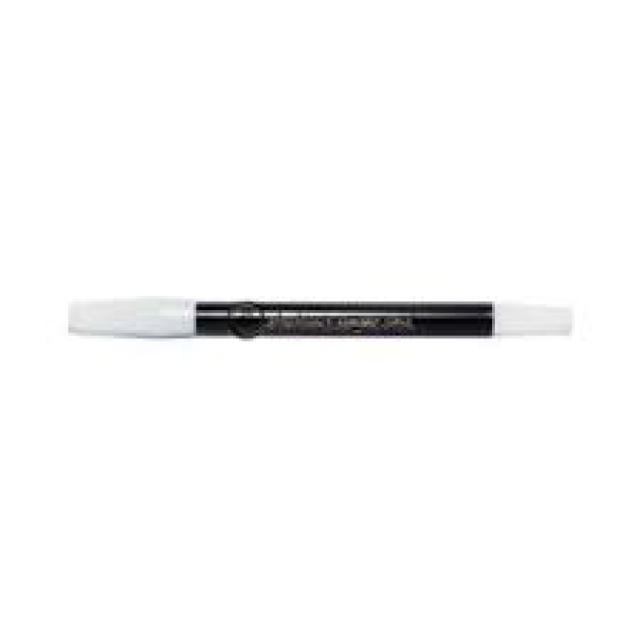marker: (65, 300, 574, 347)
